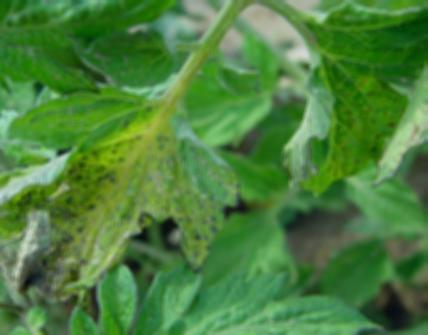Tomato leaf bacterial spot: (0, 68, 242, 312), (267, 0, 428, 230), (50, 247, 383, 335)
